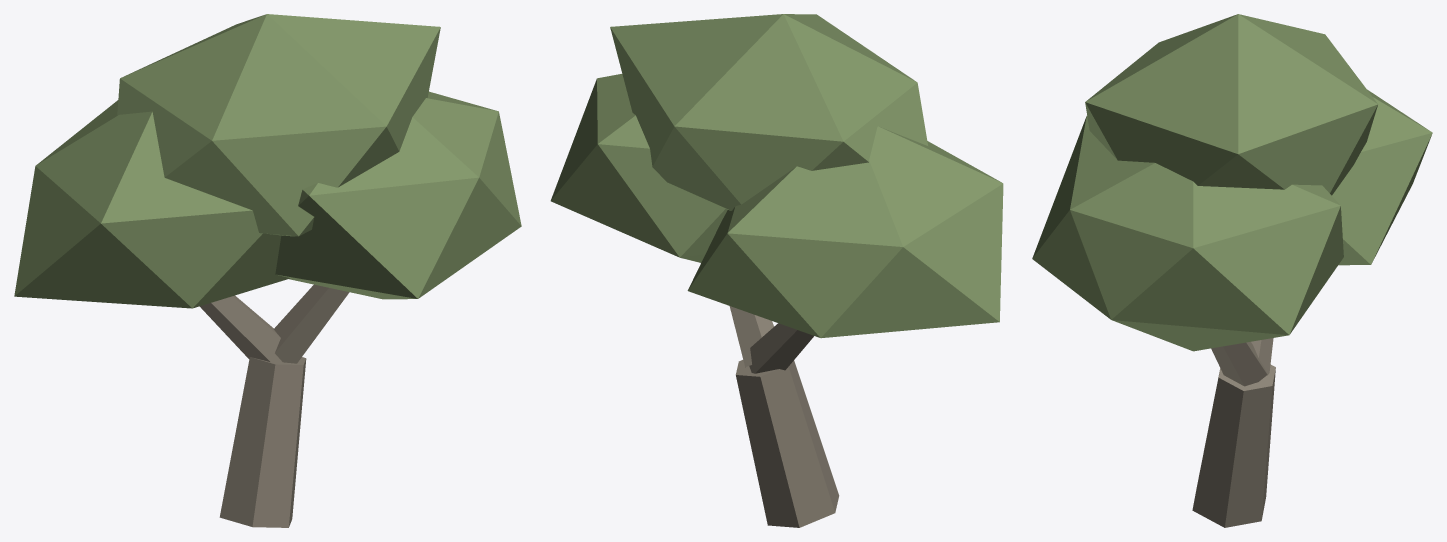
File: olivier.glb
3 views of the same model, side by side, from view 1: azimuth 30°, elevation 25°; view 2: azimuth 150°, elevation 25°; view 3: azimuth 270°, elevation 25° (orthographic).
Parts seen in each view (by area): view 1: olivier; view 2: olivier; view 3: olivier.
Boxes of the visible parts, bbox=[...] form: olivier: bbox=[14, 14, 521, 527]; olivier: bbox=[550, 14, 1003, 527]; olivier: bbox=[1032, 14, 1432, 527].
Bounding box in the file's own units: 5.71 × 6.2 × 4.46.
Materials: 1 (1 with a texture image).
